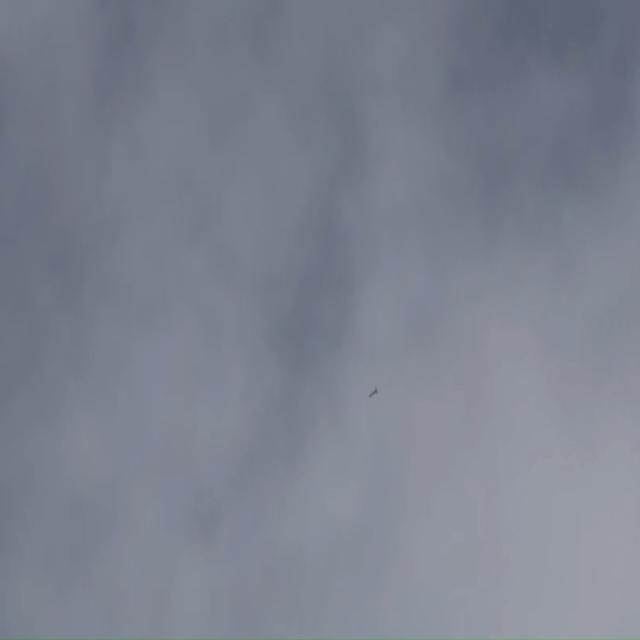Rocket: (368, 386, 378, 398)
